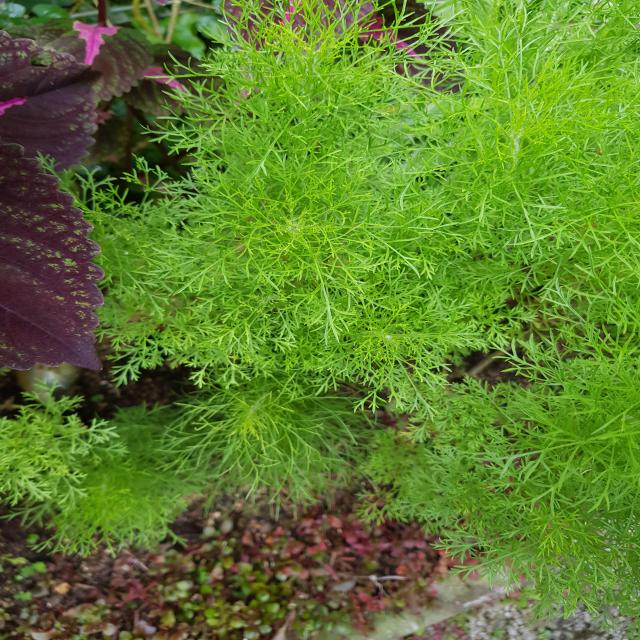Coleus: (0, 29, 116, 391)
Dill: (157, 44, 640, 586)
